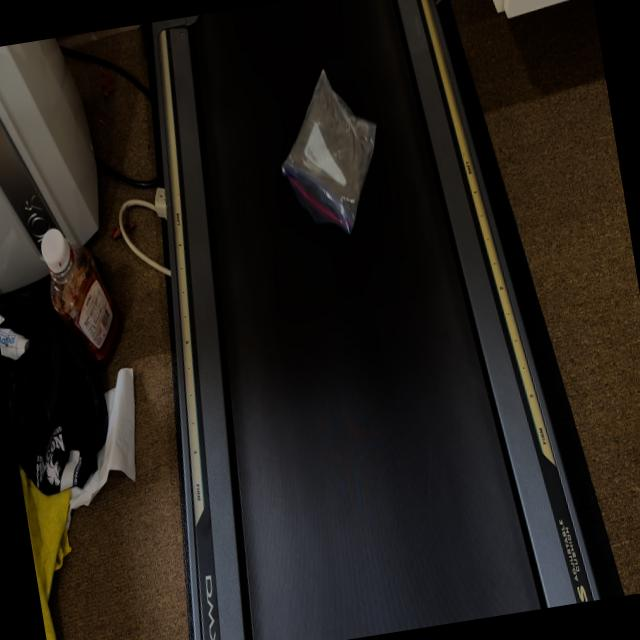Trash: (272, 64, 398, 254)
